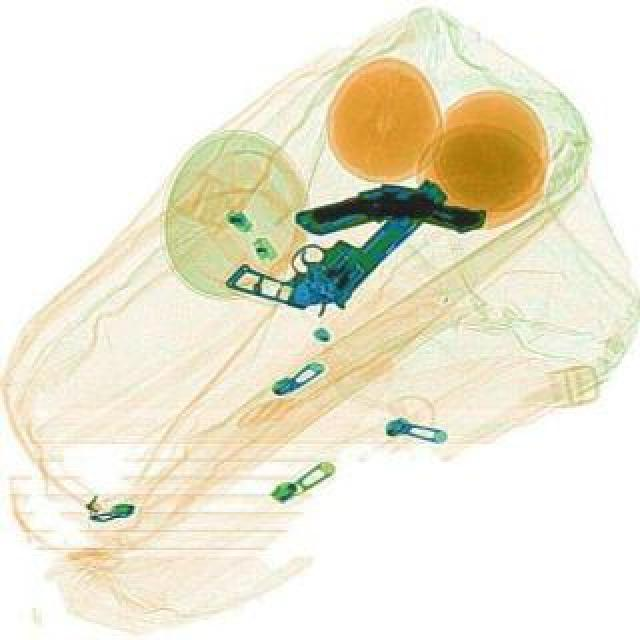gun: (220, 130, 448, 346), (288, 156, 488, 280)
